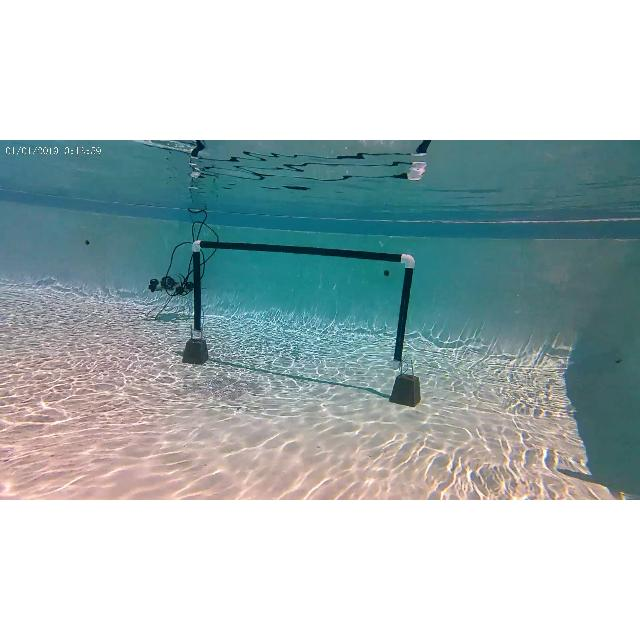prequal gate: (190, 241, 416, 369)
prequal gate leg l: (187, 239, 207, 335)
prequal gate leg r: (392, 252, 414, 368)
